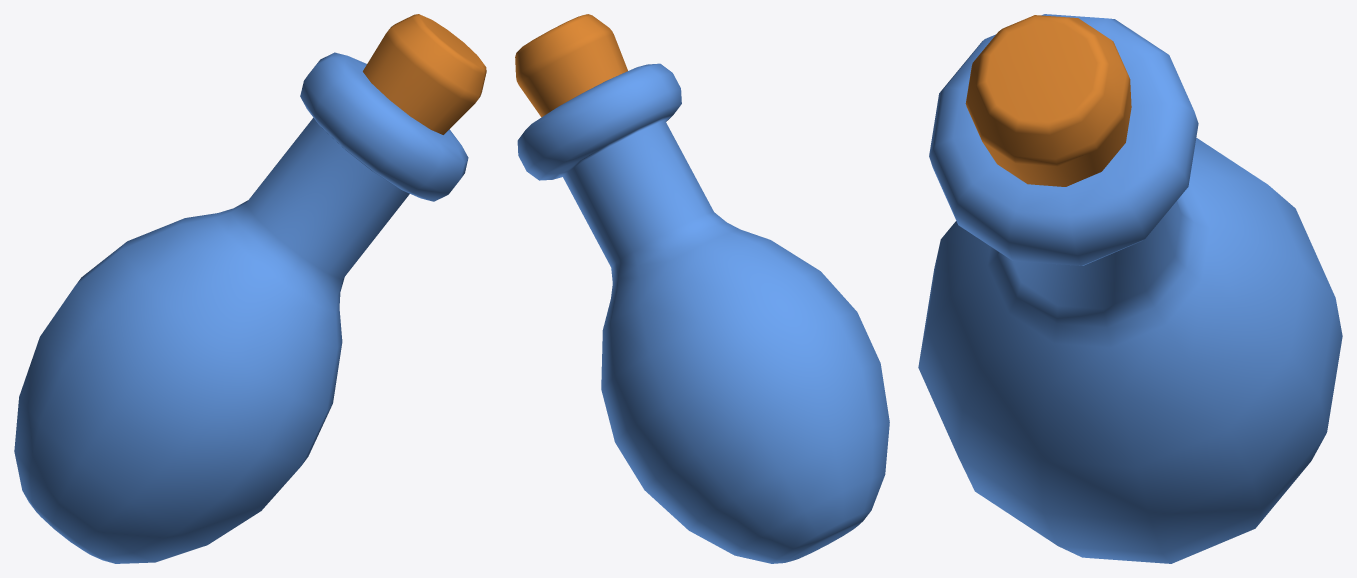
3 renders of one model, left to right at view 1: azimuth 30°, elevation 25°; view 2: azimuth 150°, elevation 25°; view 3: azimuth 270°, elevation 25°, orthographic. The views are drawn at different scales.
Parts seen in each view (by area): view 1: model_1.106; view 2: model_1.106; view 3: model_1.106.
Part boxes in pixels (x1,y1,x2,y2): model_1.106: [14, 14, 486, 563]; model_1.106: [515, 14, 889, 563]; model_1.106: [918, 14, 1342, 563].
Bounding box in the file's own units: 3.83 × 4.34 × 2.39.
